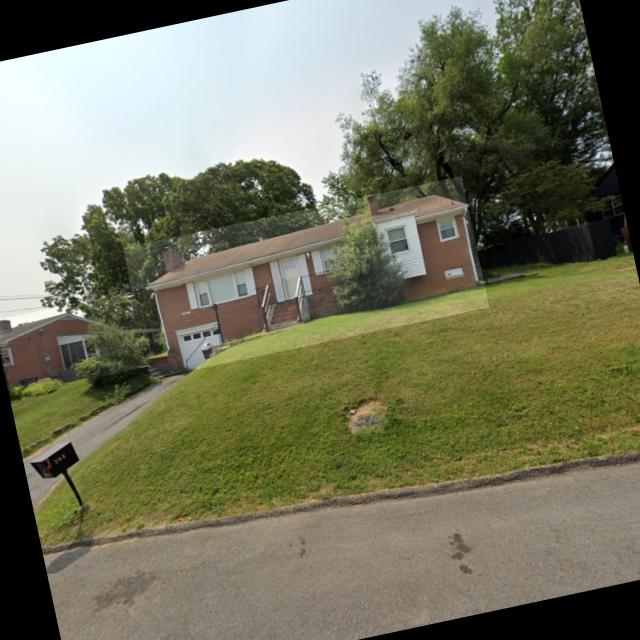House: (123, 175, 489, 378), (0, 286, 167, 394)
